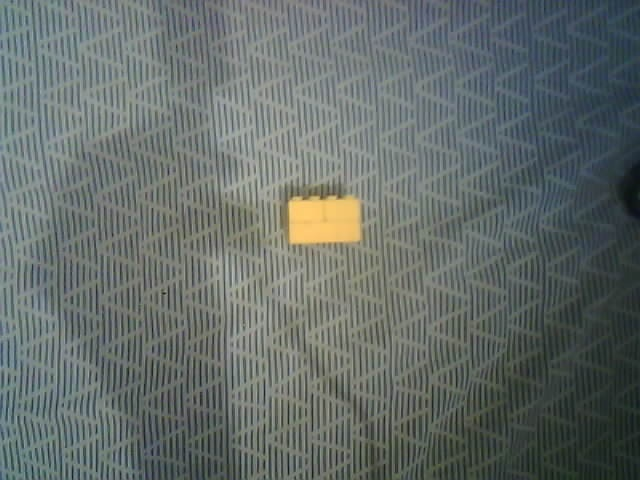lego: (284, 194, 363, 246)
